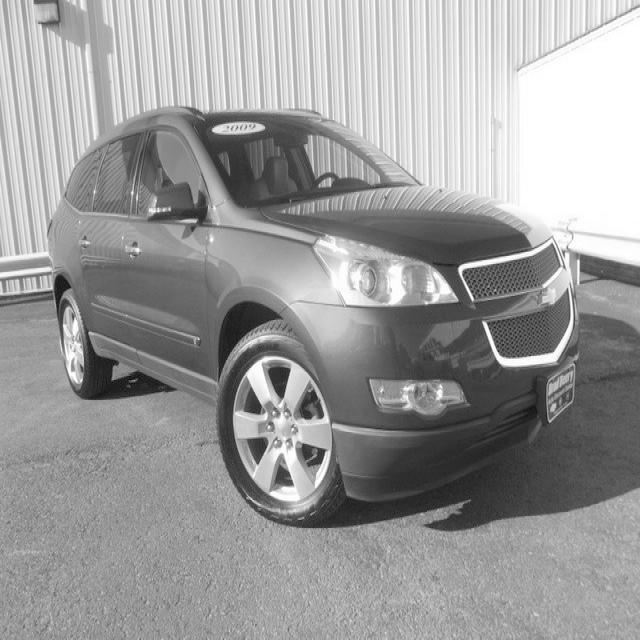car: (45, 104, 580, 527)
